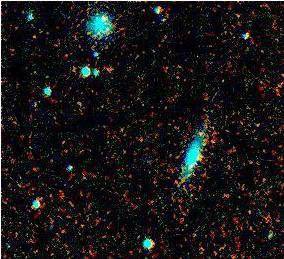star: (230, 202, 260, 232)
